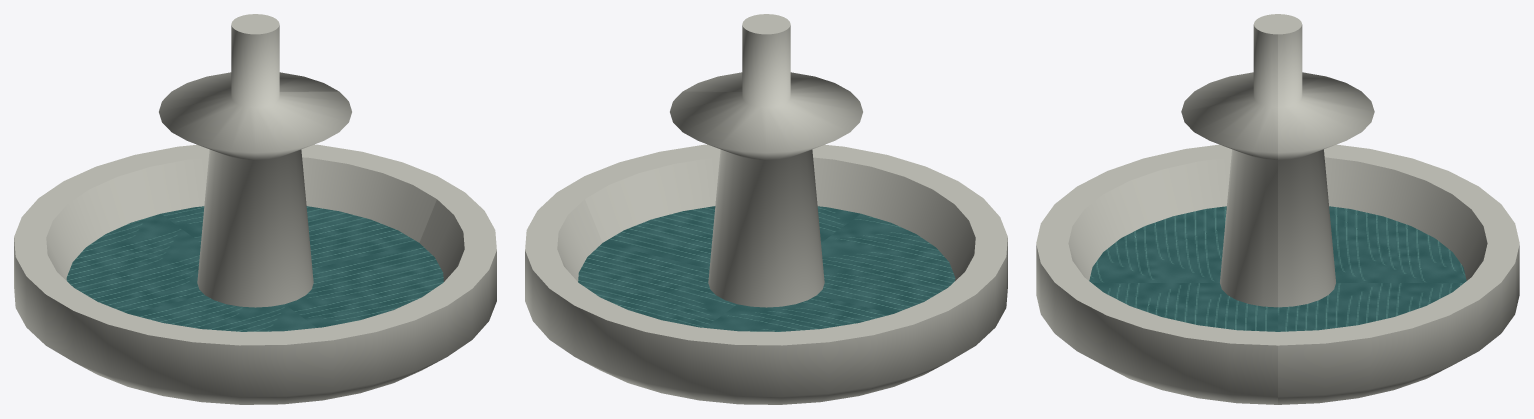
Rendered from Fountain.fbx.
3 renders of one model, left to right at view 1: azimuth 30°, elevation 25°; view 2: azimuth 150°, elevation 25°; view 3: azimuth 270°, elevation 25°, orthographic.
Visible parts, largest first — view 1: Fountain basin, Fountain pedestal, Fountain water; view 2: Fountain basin, Fountain pedestal, Fountain water; view 3: Fountain basin, Fountain pedestal, Fountain water.
Part boxes in pixels (x1=…): Fountain basin: x1=14, y1=144, x2=496, y2=404; Fountain pedestal: x1=159, y1=14, x2=351, y2=307; Fountain water: x1=66, y1=206, x2=443, y2=331; Fountain basin: x1=525, y1=144, x2=1007, y2=404; Fountain pedestal: x1=670, y1=14, x2=862, y2=307; Fountain water: x1=578, y1=206, x2=955, y2=331; Fountain basin: x1=1036, y1=144, x2=1519, y2=404; Fountain pedestal: x1=1181, y1=14, x2=1374, y2=307; Fountain water: x1=1089, y1=206, x2=1466, y2=331.
Bounding box in the file's own units: 300 × 200 × 300.
